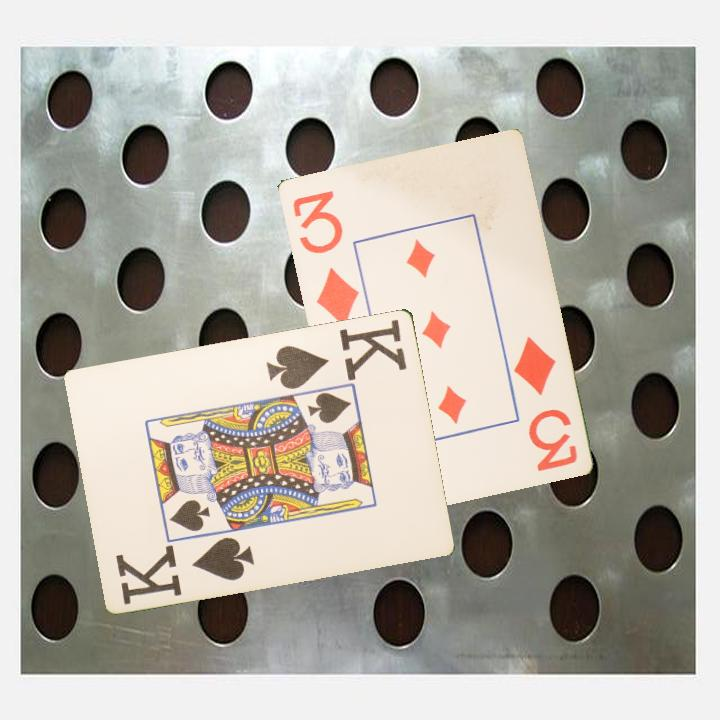3d: (288, 186, 362, 330), (509, 332, 580, 474)
Ks: (262, 315, 410, 392), (112, 533, 258, 607)
